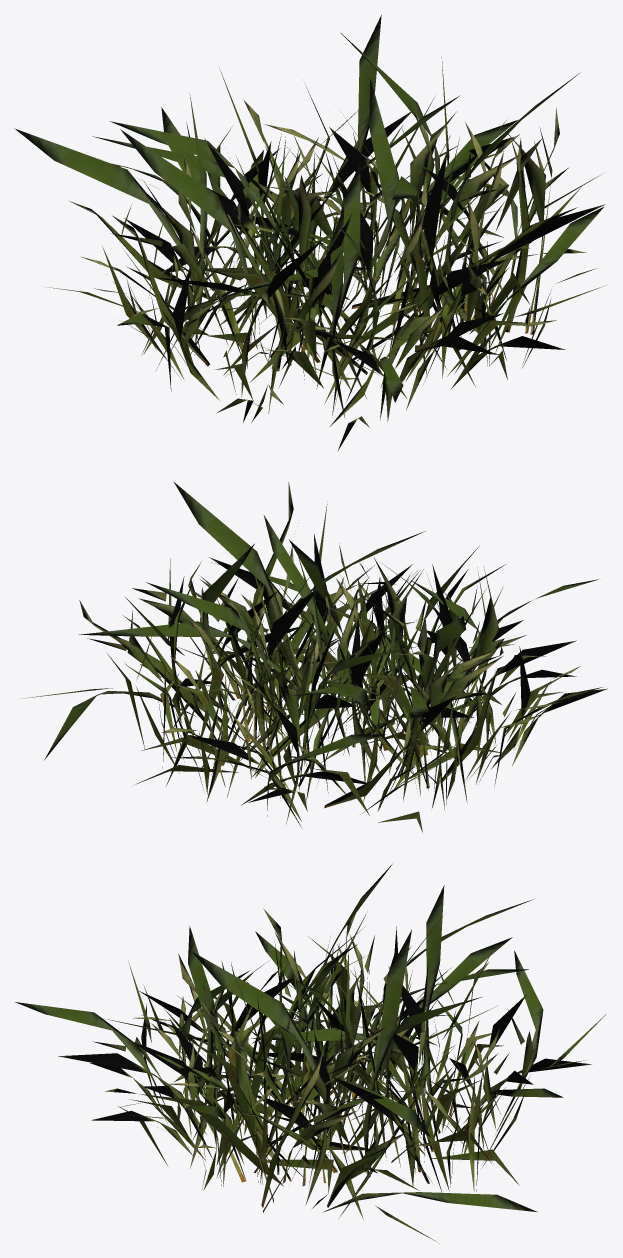
Rendered from grass_c_near.gltf.
3 renders of one model, top to bottom at view 1: azimuth 30°, elevation 25°; view 2: azimuth 150°, elevation 25°; view 3: azimuth 270°, elevation 25°, orthographic. The views are drawn at different scales.
Parts seen in each view (by area): view 1: grass_c_near; view 2: grass_c_near; view 3: grass_c_near.
Boxes of the visible parts, x1,y1,x2,y2 form: grass_c_near: [14, 15, 605, 451]; grass_c_near: [20, 481, 607, 832]; grass_c_near: [15, 862, 606, 1243].
Size of the model in its own units: 1.41 by 0.6438 by 1.45.
Materials: 1 (1 with a texture image).
